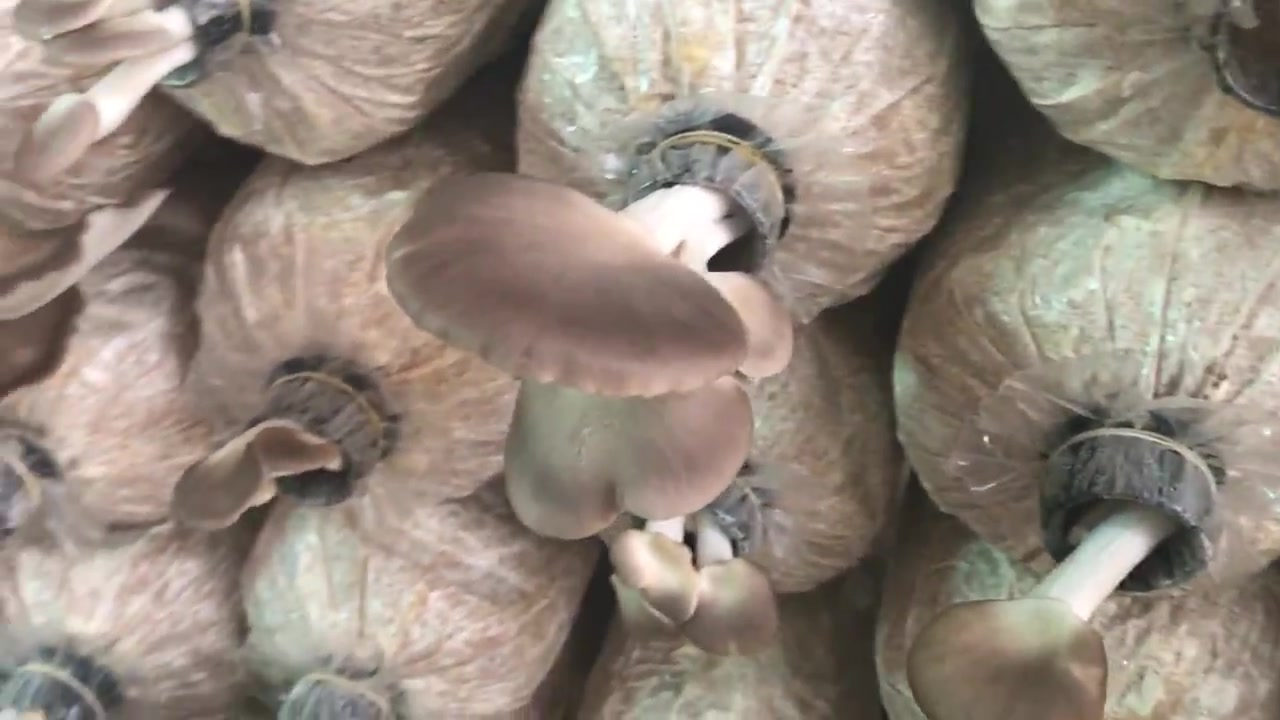nam: (387, 133, 794, 536), (912, 434, 1225, 720), (12, 1, 270, 180), (170, 370, 386, 529), (613, 488, 777, 654)
